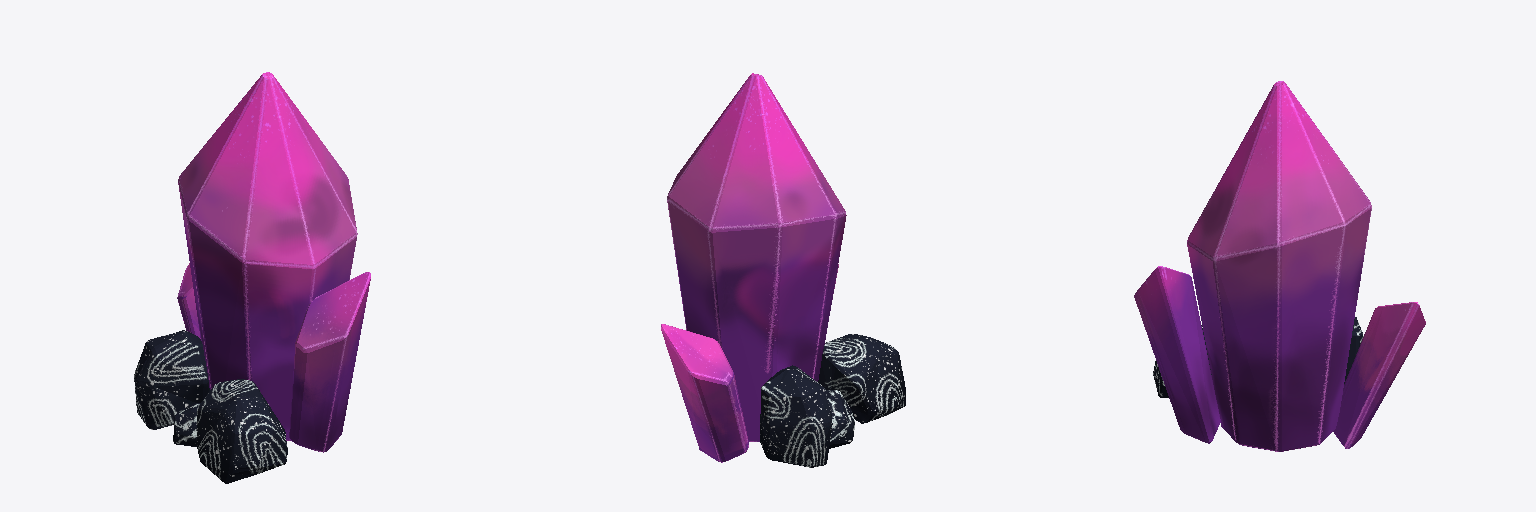
3 renders of one model, left to right at view 1: azimuth 30°, elevation 25°; view 2: azimuth 150°, elevation 25°; view 3: azimuth 270°, elevation 25°, orthographic.
Parts seen in each view (by area): view 1: Cylinder; view 2: Cylinder; view 3: Cylinder.
Boxes of the visible parts, box(x1,y1,x2,y2) form: Cylinder: box(134, 72, 370, 483); Cylinder: box(661, 73, 905, 467); Cylinder: box(1134, 81, 1425, 451).
Size of the model in its own units: 1.14 by 2.13 by 1.58.
1 materials, 1 textured.